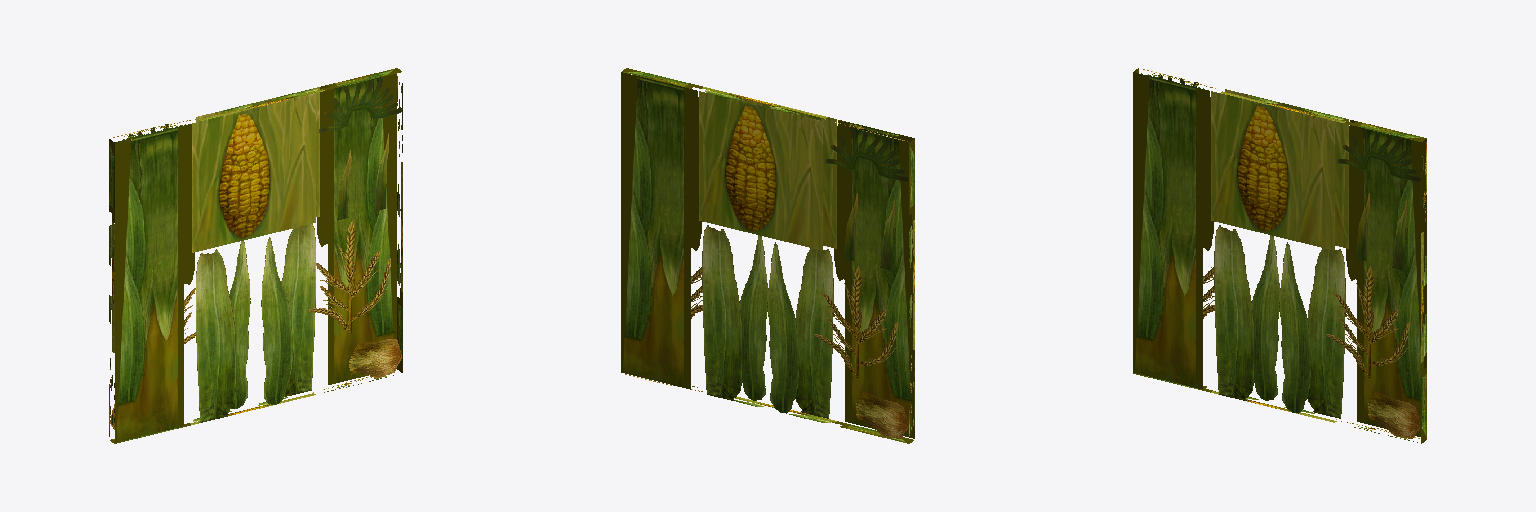
3 renders of one model, left to right at view 1: azimuth 30°, elevation 25°; view 2: azimuth 150°, elevation 25°; view 3: azimuth 330°, elevation 25°, orthographic.
Parts seen in each view (by area): view 1: Box001; view 2: Box001; view 3: Box001.
Boxes of the visible parts, x1=… form: Box001: x1=109, y1=68, x2=402, y2=443; Box001: x1=621, y1=68, x2=914, y2=443; Box001: x1=1133, y1=68, x2=1426, y2=443.
Size of the model in its own units: 0.3 by 0.3 by 0.01.
1 materials, 1 textured.